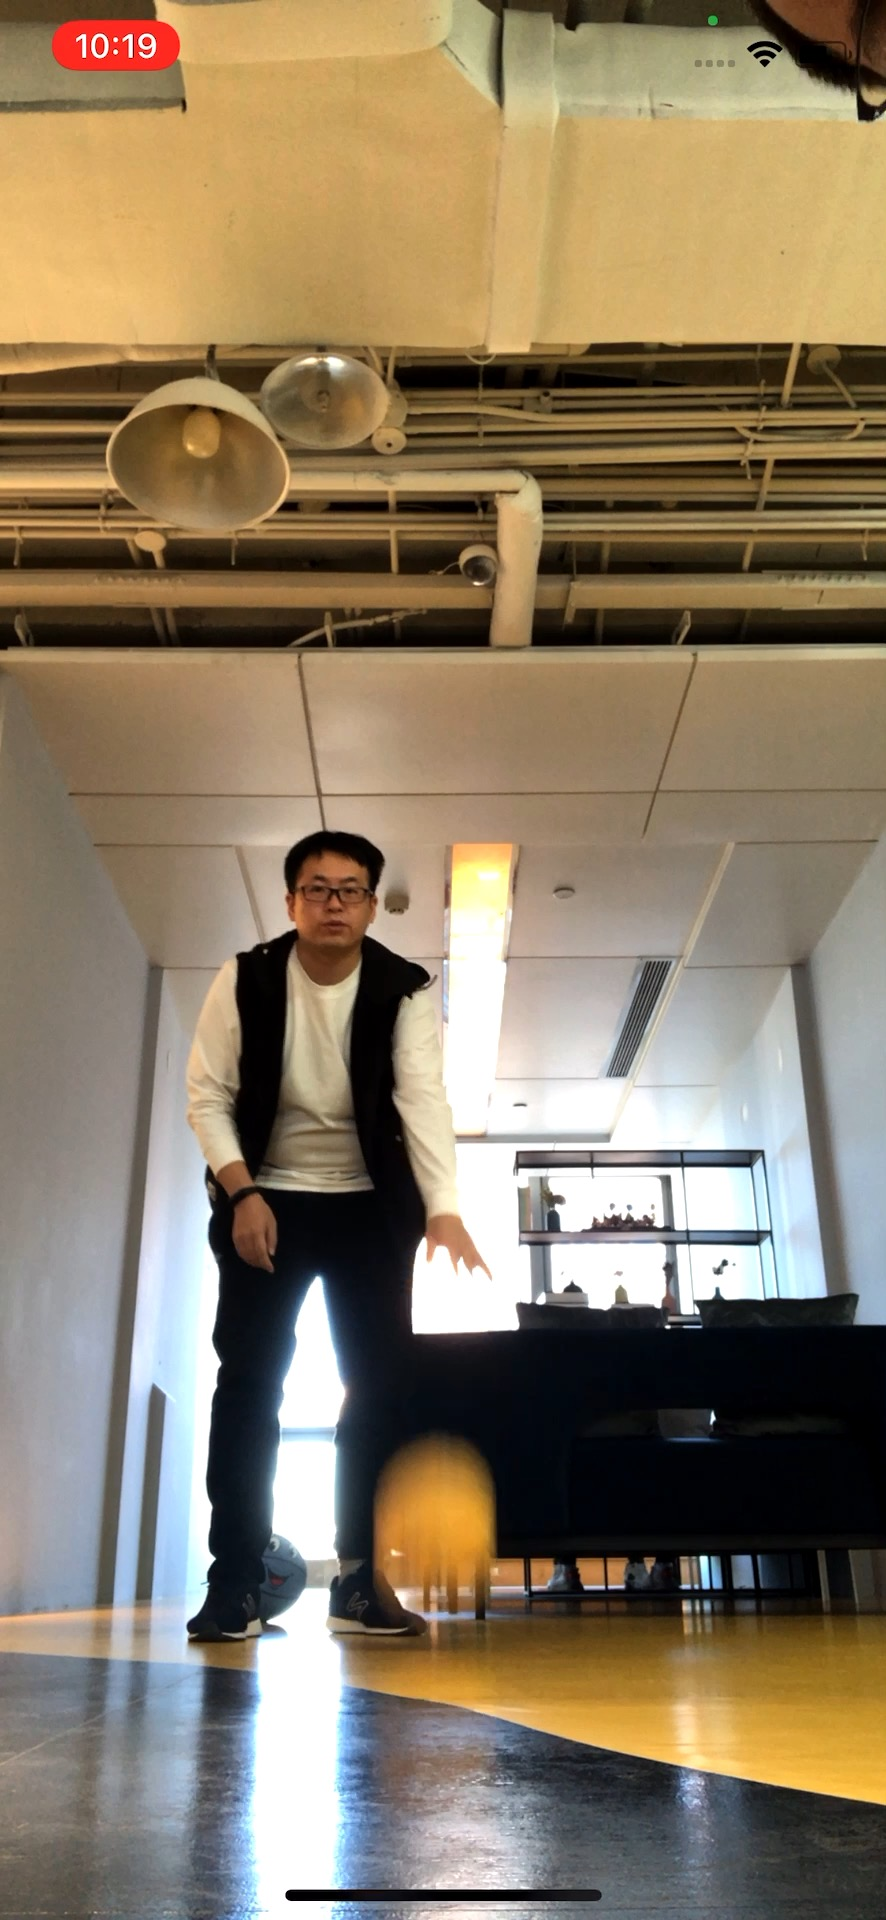ball: (381, 1445, 501, 1594)
